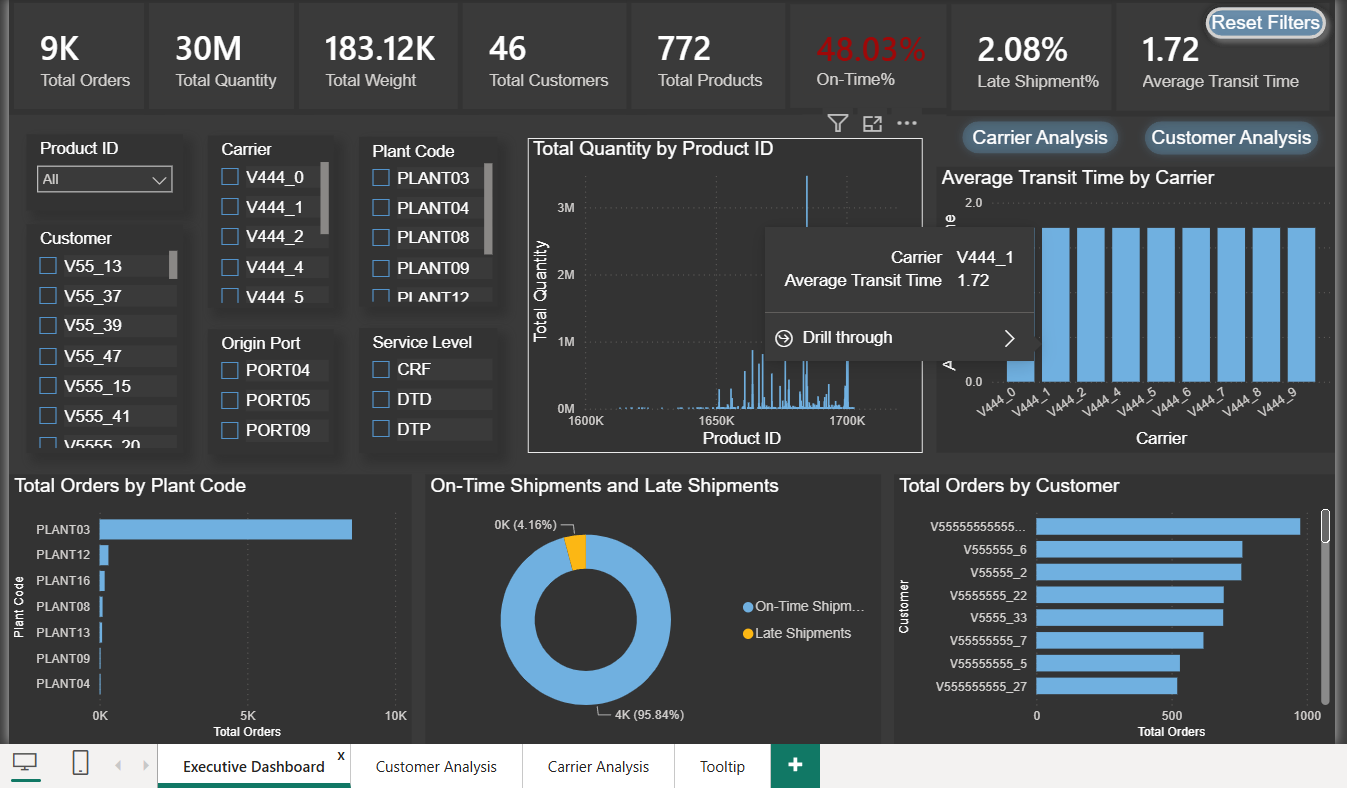

The dashboard page shown, as its layout file describes it:
{"tool":"powerbi","page":{"name":"Executive Dashboard","canvas":[1280,720],"ordinal":0},"visuals":[{"type":"cardVisual","fields":{"Data":["ameasures.Total Orders"]},"box":[0,0,150.4,112.5],"z":0},{"type":"cardVisual","fields":{"Data":["ameasures.Total Quantity"]},"box":[130.7,0,163.9,112.5],"z":1000},{"type":"cardVisual","fields":{"Data":["ameasures.Total Weight"]},"box":[274.8,0,178.5,112.5],"z":2000},{"type":"cardVisual","fields":{"Data":["ameasures.Total Customers"]},"box":[433.6,0,182.2,112.5],"z":3000},{"type":"cardVisual","fields":{"Data":["ameasures.Total Products"]},"box":[596,0,170,112.5],"z":4000},{"type":"cardVisual","fields":{"Data":["ameasures.On-Time%"]},"box":[749.2,1.2,172.5,111],"z":5000},{"type":"cardVisual","fields":{"Data":["ameasures.Late Shipment%"]},"box":[904.9,1.1,181,112.5],"z":6000},{"type":"cardVisual","fields":{"Data":["ameasures.Average Transit Time"]},"box":[1064.1,0.6,216,114.6],"z":7000},{"type":"clusteredBarChart","fields":{"Y":["ameasures.Total Orders"],"Category":["DimCustomer.Customer"]},"box":[854.5,459.5,425.5,260.5],"z":8000},{"type":"clusteredColumnChart","fields":{"Y":["ameasures.Total Quantity"],"Category":["DimProduct.Product ID"]},"box":[500.7,135.1,381.2,304],"z":9000},{"type":"clusteredBarChart","fields":{"Category":["DimPlant.Plant Code"],"Y":["ameasures.Total Orders"]},"box":[0,459.5,388.9,260.5],"z":10000},{"type":"clusteredColumnChart","fields":{"Y":["ameasures.Average Transit Time"],"Category":["FreightRates.Carrier"]},"box":[895.2,162.9,384.9,276.3],"z":11000},{"type":"donutChart","fields":{"Y":["ameasures.On-Time Shipments","ameasures.Late Shipments"]},"box":[401.6,459.4,440.4,260.6],"z":12000},{"type":"slicer","fields":{"Values":["DimProduct.Product ID"]},"box":[16.4,131.3,150.8,73.6],"z":13000},{"type":"slicer","fields":{"Values":["DimCustomer.Customer"]},"box":[16.4,218.1,150.8,220.8],"z":14000},{"type":"slicer","fields":{"Values":["OrderList.Origin Port"]},"box":[192.3,320.2,121.9,120.6],"z":15000},{"type":"slicer","fields":{"Values":["OrderList.Service Level"]},"box":[337.3,318.3,133.9,120.6],"z":16000},{"type":"slicer","fields":{"Values":["FreightRates.Carrier"]},"box":[192.3,133.2,121.9,166.5],"z":17000},{"type":"slicer","fields":{"Values":["OrderList.Plant Code"]},"box":[337.3,133.7,133.9,164.1],"z":18000},{"type":"actionButton","box":[1088.2,111,183.4,48.3],"z":19000},{"type":"actionButton","box":[912.1,111,166.5,47.1],"z":20000},{"type":"actionButton","box":[1146.1,0,133.9,48.3],"z":21000}]}

Visuals, with their boxes on the page's 1280x720 design canvas (x1, y1, x2, y2). These are canvas units, not pixel positions in the 1347x788 screenshot, which may show the page scaled, cropped or inside an application window:
cardVisual - ameasures.Total Orders: pyautogui.locateOnScreen(0, 0, 150, 112)
cardVisual - ameasures.Total Quantity: pyautogui.locateOnScreen(131, 0, 295, 112)
cardVisual - ameasures.Total Weight: pyautogui.locateOnScreen(275, 0, 453, 112)
cardVisual - ameasures.Total Customers: pyautogui.locateOnScreen(434, 0, 616, 112)
cardVisual - ameasures.Total Products: pyautogui.locateOnScreen(596, 0, 766, 112)
cardVisual - ameasures.On-Time%: pyautogui.locateOnScreen(749, 1, 922, 112)
cardVisual - ameasures.Late Shipment%: pyautogui.locateOnScreen(905, 1, 1086, 114)
cardVisual - ameasures.Average Transit Time: pyautogui.locateOnScreen(1064, 1, 1280, 115)
clusteredBarChart - ameasures.Total Orders x DimCustomer.Customer: pyautogui.locateOnScreen(854, 460, 1280, 720)
clusteredColumnChart - ameasures.Total Quantity x DimProduct.Product ID: pyautogui.locateOnScreen(501, 135, 882, 439)
clusteredBarChart - DimPlant.Plant Code x ameasures.Total Orders: pyautogui.locateOnScreen(0, 460, 389, 720)
clusteredColumnChart - ameasures.Average Transit Time x FreightRates.Carrier: pyautogui.locateOnScreen(895, 163, 1280, 439)
donutChart - ameasures.On-Time Shipments x ameasures.Late Shipments: pyautogui.locateOnScreen(402, 459, 842, 720)
slicer - DimProduct.Product ID: pyautogui.locateOnScreen(16, 131, 167, 205)
slicer - DimCustomer.Customer: pyautogui.locateOnScreen(16, 218, 167, 439)
slicer - OrderList.Origin Port: pyautogui.locateOnScreen(192, 320, 314, 441)
slicer - OrderList.Service Level: pyautogui.locateOnScreen(337, 318, 471, 439)
slicer - FreightRates.Carrier: pyautogui.locateOnScreen(192, 133, 314, 300)
slicer - OrderList.Plant Code: pyautogui.locateOnScreen(337, 134, 471, 298)
actionButton: pyautogui.locateOnScreen(1088, 111, 1272, 159)
actionButton: pyautogui.locateOnScreen(912, 111, 1079, 158)
actionButton: pyautogui.locateOnScreen(1146, 0, 1280, 48)
